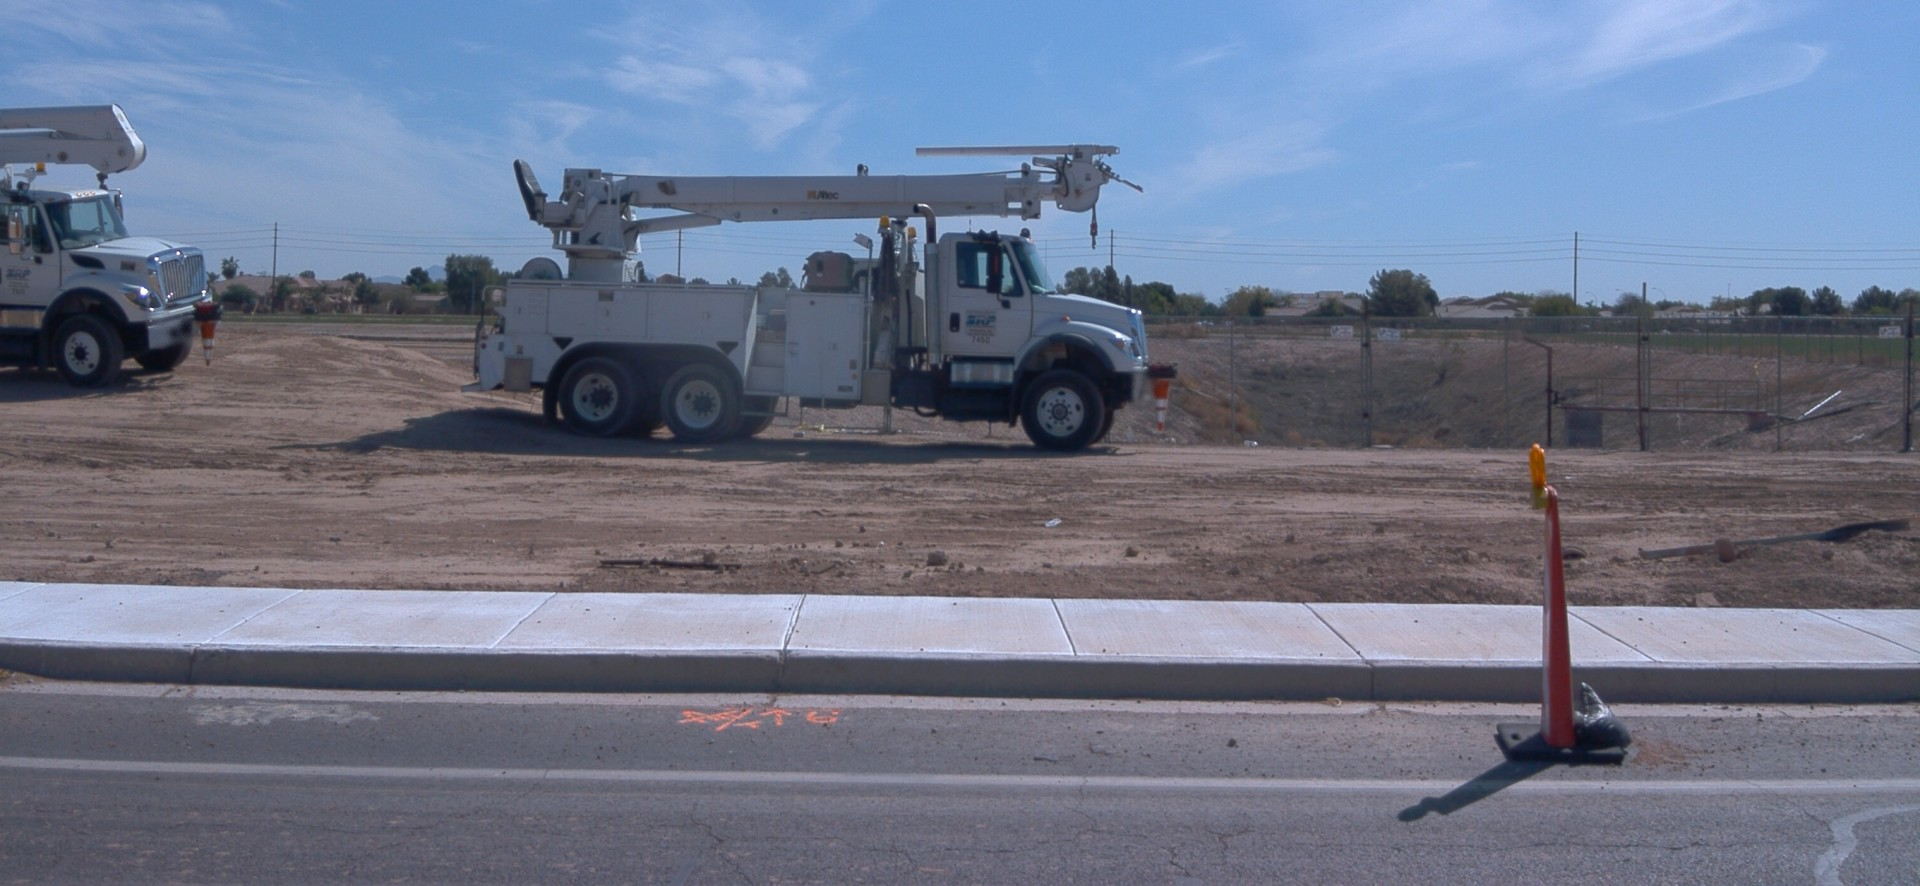TYPE_VEHICLE: (460, 144, 1151, 455), (0, 102, 224, 392)
